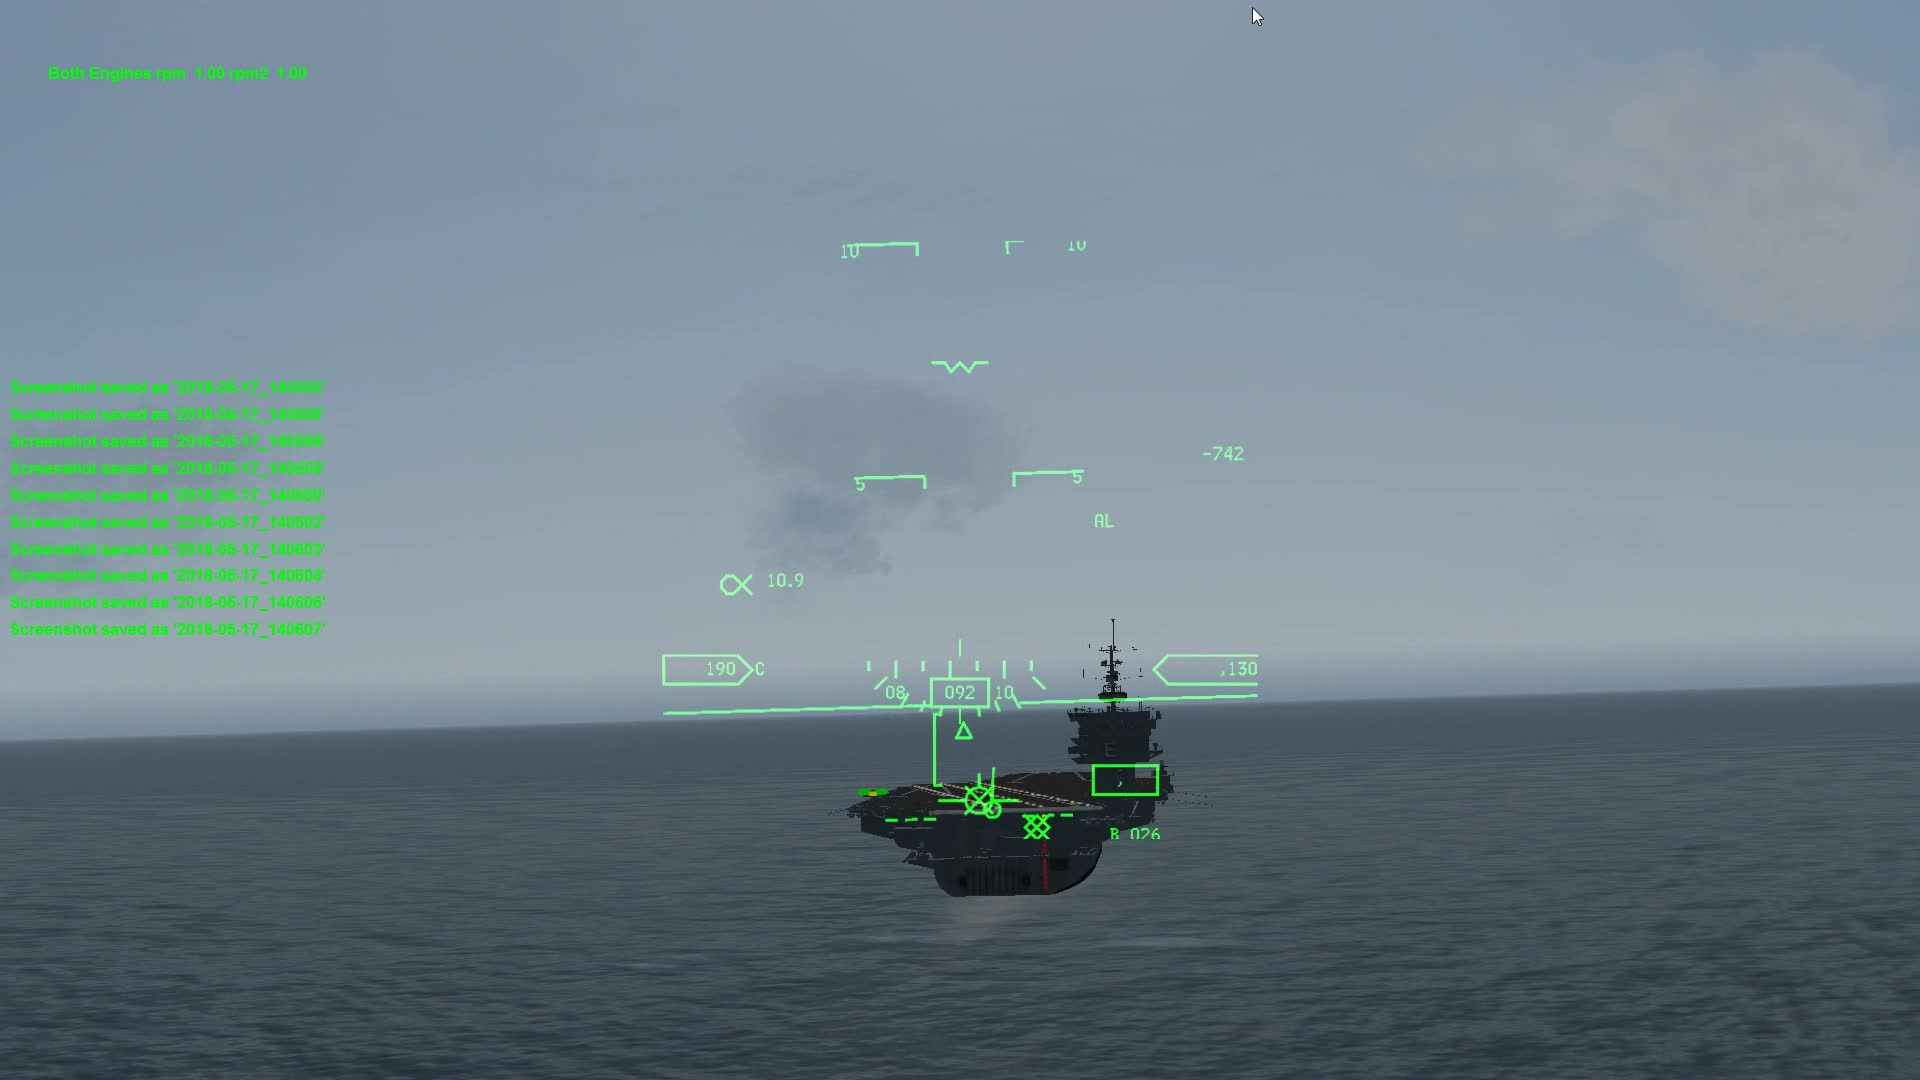speed vector: (947, 774, 1010, 818)
